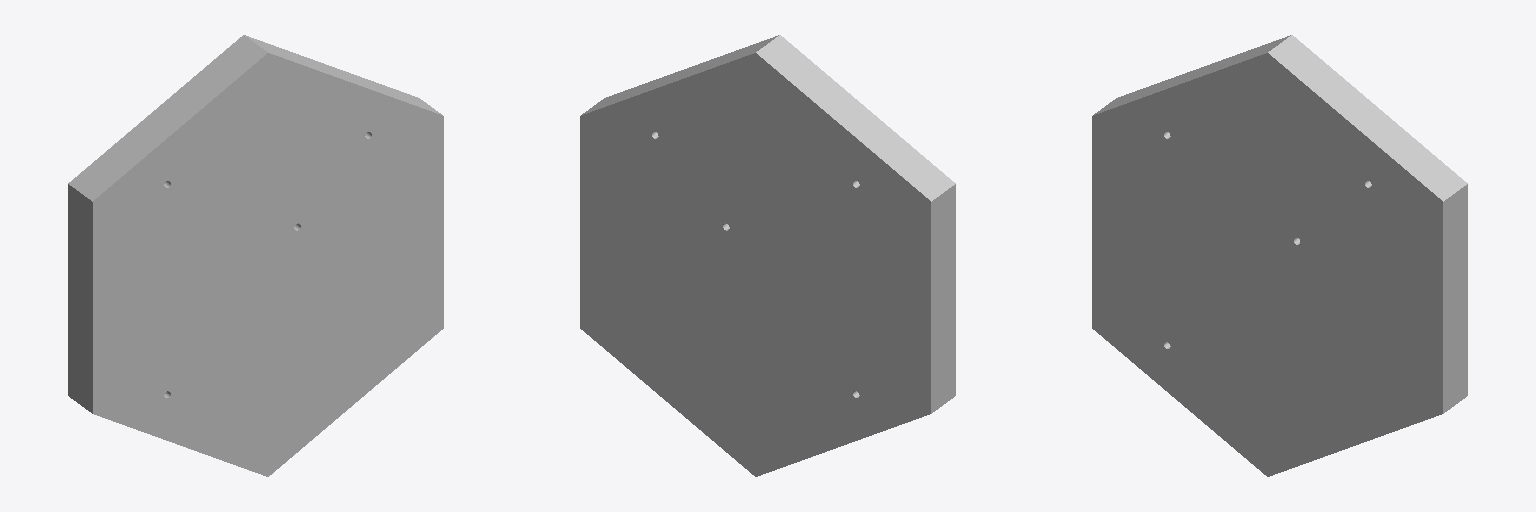
File: hex.obj
3 renders of one model, left to right at view 1: azimuth 30°, elevation 25°; view 2: azimuth 150°, elevation 25°; view 3: azimuth 330°, elevation 25°, orthographic.
Parts seen in each view (by area): view 1: StainlessSteel_hex; view 2: StainlessSteel_hex; view 3: StainlessSteel_hex.
Part boxes in pixels (x1,y1,x2,y2): StainlessSteel_hex: (68,35,443,476); StainlessSteel_hex: (580,35,955,476); StainlessSteel_hex: (1092,35,1467,476).
Bounding box in the file's own units: 0.1049 × 0.1211 × 0.0127.